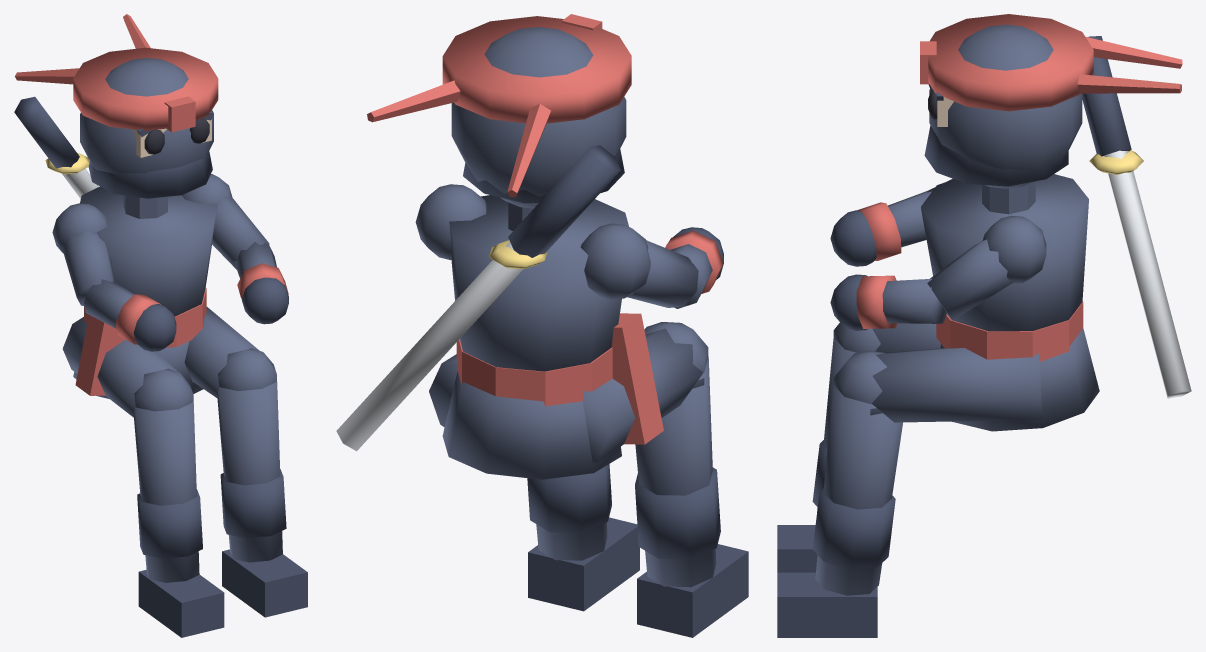
The model's file is meeple_06_ninja.glb.
3 renders of one model, left to right at view 1: azimuth 30°, elevation 25°; view 2: azimuth 150°, elevation 25°; view 3: azimuth 270°, elevation 25°, orthographic. The views are drawn at different scales.
Parts seen in each view (by area): view 1: meeple_06_ninja; view 2: meeple_06_ninja; view 3: meeple_06_ninja.
Part boxes in pixels (left/top/right/bottom): meeple_06_ninja: left=14, top=14, right=307, bottom=637; meeple_06_ninja: left=336, top=14, right=748, bottom=637; meeple_06_ninja: left=777, top=14, right=1191, bottom=637.
Size of the model in its own units: 0.5278 by 1.28 by 0.8456.
